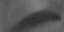LeftEyeFatigue: (4, 5, 63, 31)
